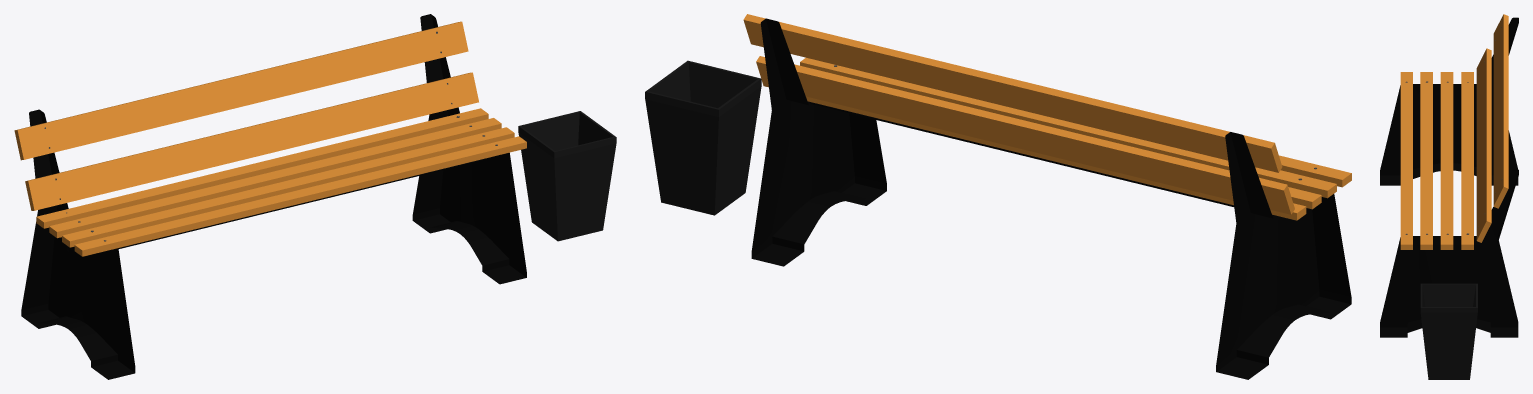
The picture shows the model from 3 angles, left to right: view 1: azimuth 30°, elevation 25°; view 2: azimuth 150°, elevation 25°; view 3: azimuth 270°, elevation 25°; orthographic projection. The views are drawn at different scales.
Visible parts, largest first — view 1: Куб, Куб.005, Куб.006, Плоскость.001, Куб.001, Куб.004, Куб.003, Куб.002; view 2: Куб, Куб.006, Куб.005, Плоскость.001, Куб.002, Куб.004, Куб.001; view 3: Куб, Плоскость.001, Куб.006, Куб.005, Куб.003, Куб.002, Куб.001, Куб.004.
Boxes of the visible parts, box(x1,y1,x2,y2) form: Куб: box(21, 14, 526, 379); Куб.005: box(25, 72, 478, 210); Куб.006: box(14, 21, 468, 160); Плоскость.001: box(518, 111, 616, 241); Куб.001: box(74, 136, 526, 256); Куб.004: box(36, 108, 488, 228); Куб.003: box(49, 118, 501, 238); Куб.002: box(62, 127, 514, 247); Куб: box(751, 18, 1351, 379); Куб.006: box(743, 14, 1282, 172); Куб.005: box(756, 56, 1294, 214); Плоскость.001: box(645, 60, 761, 215); Куб.002: box(800, 57, 1336, 198); Куб.004: box(806, 96, 1306, 220); Куб.001: box(1279, 155, 1351, 187); Куб: box(1380, 17, 1518, 337); Плоскость.001: box(1420, 283, 1477, 379); Куб.006: box(1493, 14, 1508, 208); Куб.005: box(1476, 48, 1491, 242); Куб.003: box(1440, 72, 1453, 249); Куб.002: box(1420, 72, 1432, 249); Куб.001: box(1400, 72, 1412, 249); Куб.004: box(1461, 72, 1473, 249).
Size of the model in its own units: 1035 by 369 by 286.
